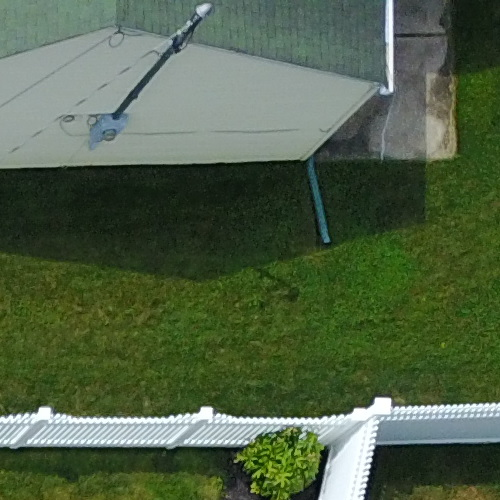gutter: (291, 143, 334, 251)
